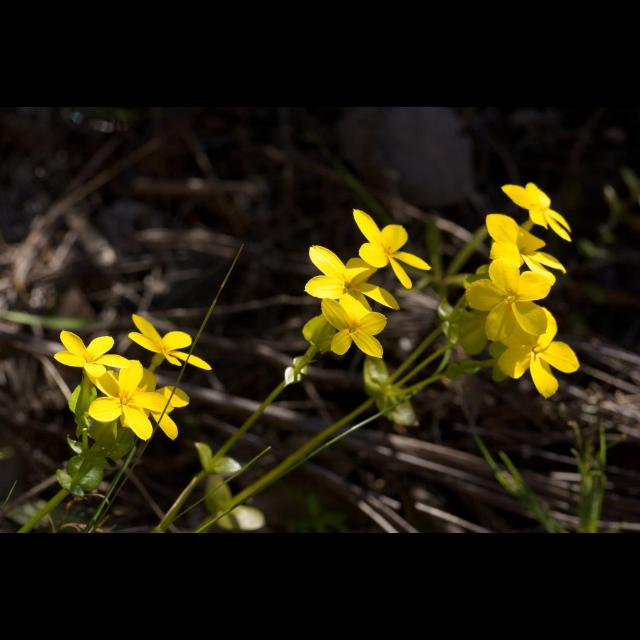Flower: (74, 356, 180, 442), (297, 243, 403, 315), (466, 258, 554, 344), (497, 308, 575, 392), (352, 210, 431, 288), (485, 210, 567, 282), (498, 184, 576, 248), (130, 314, 216, 372), (322, 300, 388, 366), (54, 329, 130, 381)
